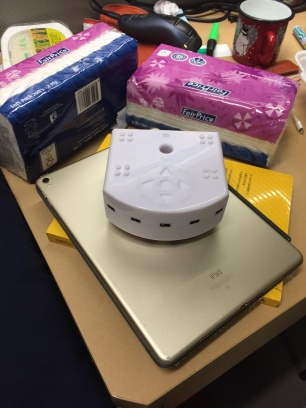thymio: (97, 116, 236, 246)
